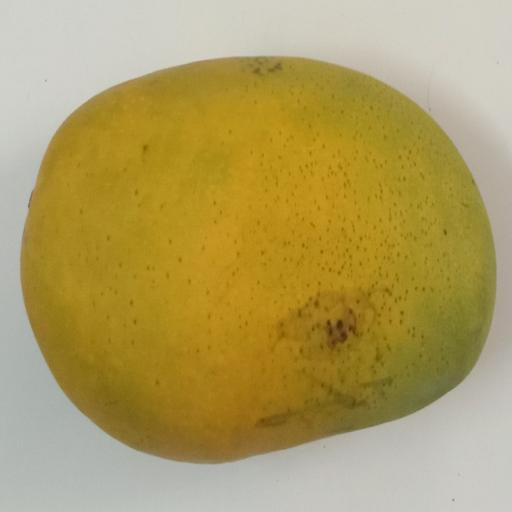mango-ripe: (13, 37, 511, 479)
